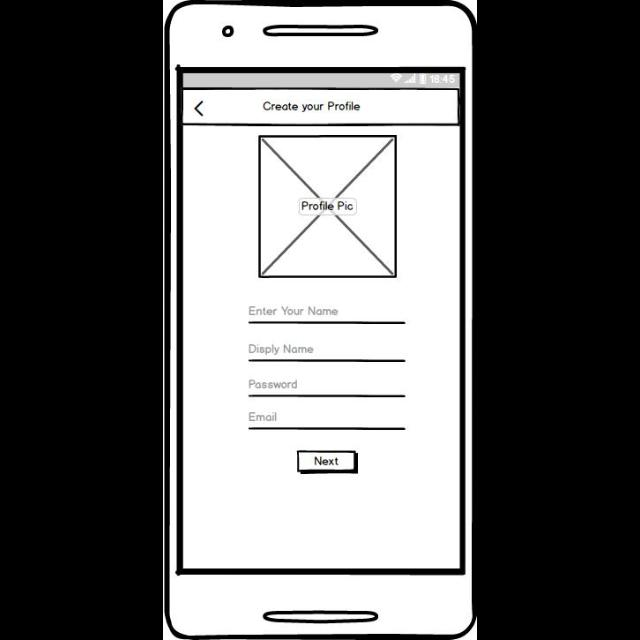icon: (194, 102, 206, 116)
image: (260, 136, 398, 278)
input: (248, 307, 406, 325), (248, 344, 406, 362), (248, 380, 406, 398), (248, 412, 406, 430)
text: (264, 101, 360, 112)
textbutton: (297, 451, 358, 474)
